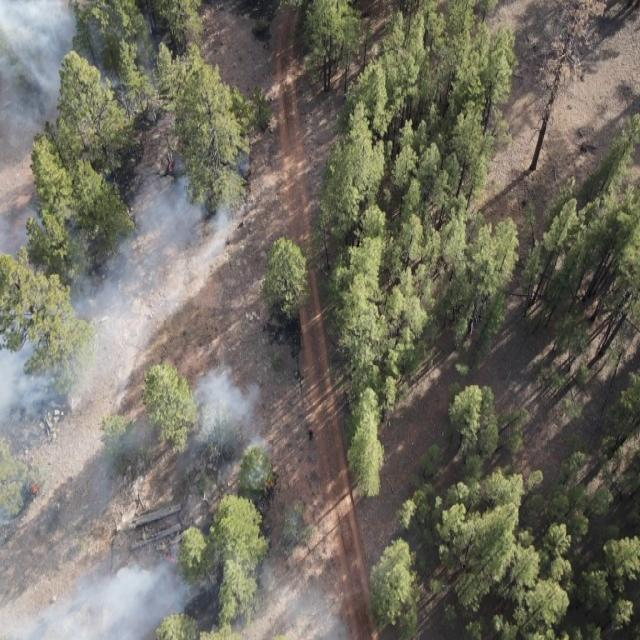fire: (158, 548, 180, 567), (27, 479, 41, 502), (164, 160, 175, 178), (266, 478, 276, 493)
smoke: (0, 374, 220, 640), (0, 158, 244, 374), (0, 0, 155, 158), (222, 547, 354, 640), (191, 375, 278, 473)
